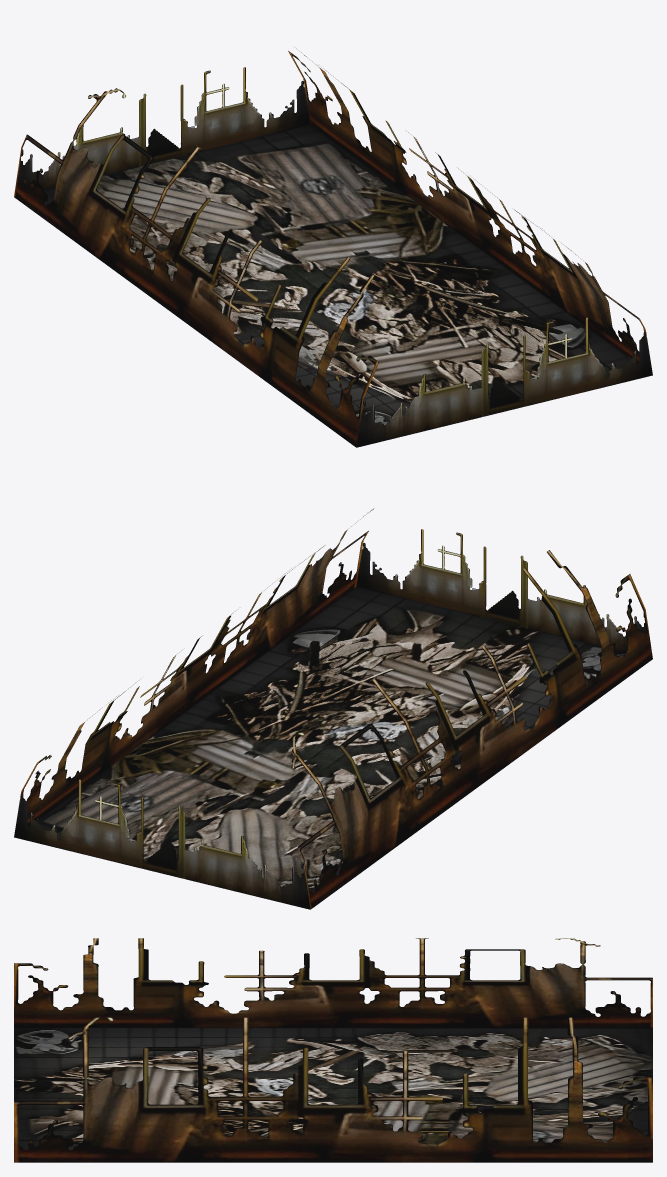
Rendered from quonset_dam_hdtex.glb.
3 renders of one model, top to bottom at view 1: azimuth 30°, elevation 25°; view 2: azimuth 150°, elevation 25°; view 3: azimuth 270°, elevation 25°, orthographic. The views are drawn at different scales.
Parts seen in each view (by area): view 1: Cylinder02; view 2: Cylinder02; view 3: Cylinder02.
Part boxes in pixels (left/top/right/bottom): Cylinder02: left=14, top=47, right=652, bottom=447; Cylinder02: left=14, top=508, right=652, bottom=909; Cylinder02: left=14, top=938, right=652, bottom=1162.
Size of the model in its own units: 8.38 by 3.39 by 16.76.
2 materials, 2 textured.
